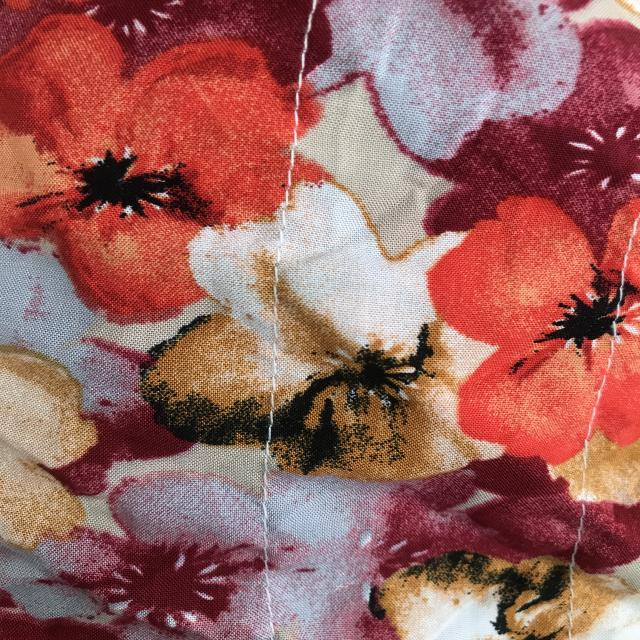good: (239, 495, 285, 612), (274, 106, 307, 202), (262, 383, 296, 456), (293, 14, 331, 79)
